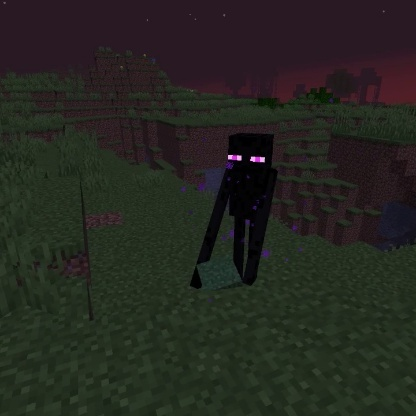enderman: (187, 131, 279, 292)
